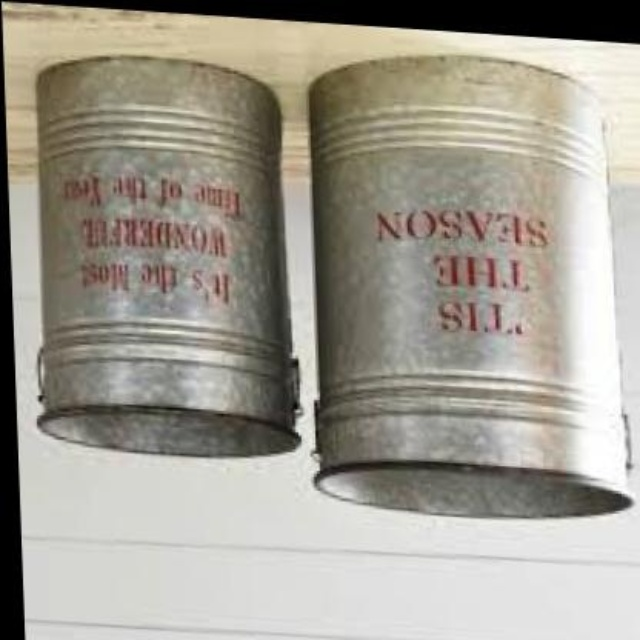trash: (309, 55, 629, 515), (37, 57, 295, 455)
